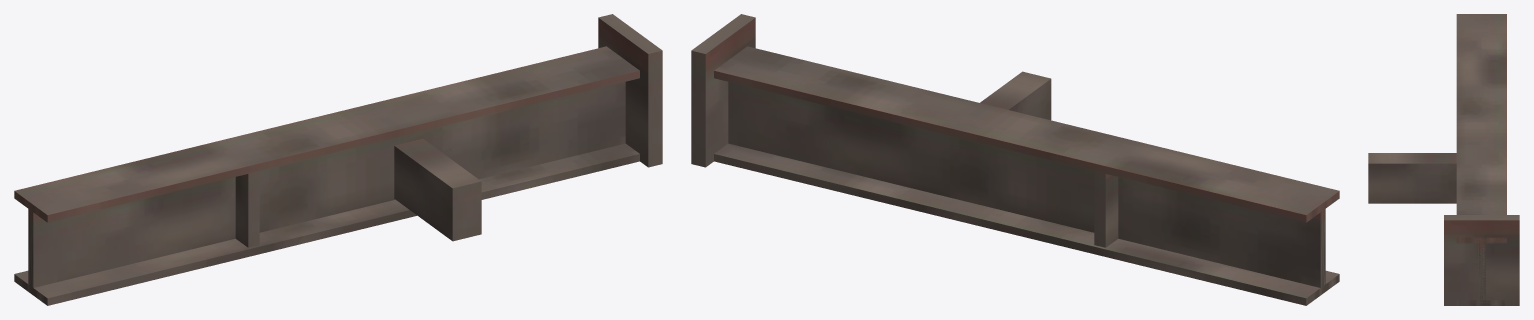
The model's file is debris_tokyo_steel_beam.glb.
The picture shows the model from 3 angles, left to right: view 1: azimuth 30°, elevation 25°; view 2: azimuth 150°, elevation 25°; view 3: azimuth 270°, elevation 25°; orthographic projection. The views are drawn at different scales.
Visible parts, largest first — view 1: debris_tokyo_steel_beam; view 2: debris_tokyo_steel_beam; view 3: debris_tokyo_steel_beam.
Part boxes in pixels (x1,y1,x2,y2): debris_tokyo_steel_beam: [14, 14, 662, 305]; debris_tokyo_steel_beam: [691, 14, 1339, 305]; debris_tokyo_steel_beam: [1368, 14, 1519, 305].
Size of the model in its own units: 4.2 by 0.7501 by 1.2.
1 material, 1 textured.
